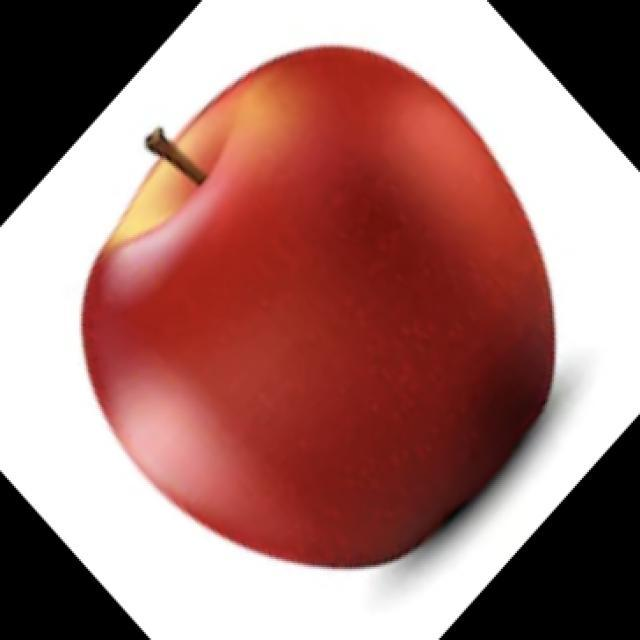Fresh Apple: (71, 40, 552, 563)
